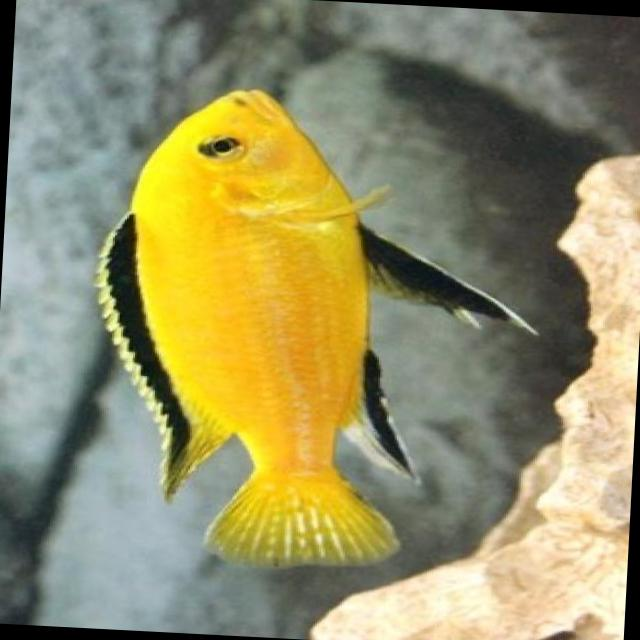YellowCichlid: (74, 82, 442, 579)
